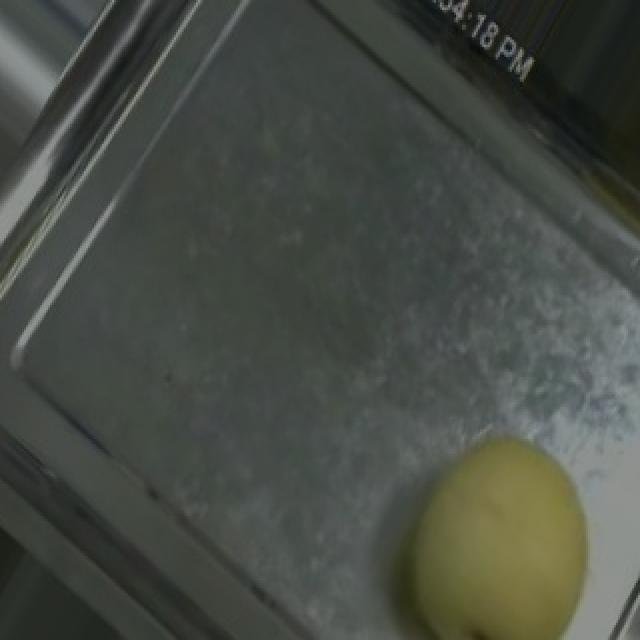Fruit: (362, 397, 636, 640)
